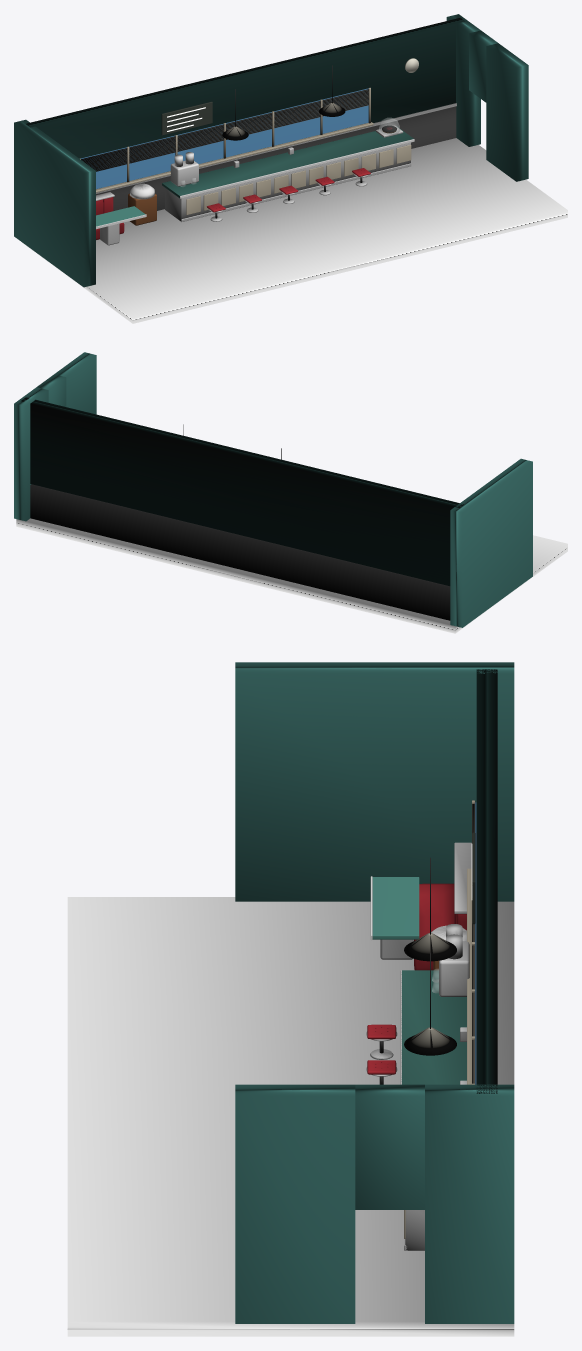
Rendered from diner.glb.
3 views of the same model, one above another, from view 1: azimuth 30°, elevation 25°; view 2: azimuth 150°, elevation 25°; view 3: azimuth 270°, elevation 25° (orthographic). The views are drawn at different scales.
Visible parts, largest first — view 1: Floor, Wall • back upper, Wall • left, Wall • right c, Window • night, Counter • top, Wall • back lower, Wall • right a, Counter • body, Wall • right b, Menu board, Window • sill (+19 smaller); view 2: Wall • back upper, Wall • back lower, Wall • left, Floor, Wall • right a, Wall • right c, Wall • right b; view 3: Floor, Wall • left, Wall • right c, Wall • right a, Wall • back upper, Wall • right b, Counter • top, Booth table • top, Booth • seat, Coffee machine, Booth • chrome trim, Pendant shade.001 (+2 smaller).
Boxes of the visible parts, x1,y1,x2,y2 form: Floor: [21, 138, 567, 323]; Wall • back upper: [26, 17, 465, 158]; Wall • left: [14, 119, 95, 287]; Wall • right c: [486, 43, 528, 181]; Window • night: [81, 88, 368, 188]; Counter • top: [162, 126, 413, 198]; Wall • back lower: [96, 106, 456, 210]; Wall • right a: [446, 14, 480, 146]; Counter • body: [165, 142, 410, 221]; Wall • right b: [469, 30, 498, 102]; Menu board: [161, 101, 212, 135]; Window • sill: [96, 122, 373, 192]; Wall • back upper: [21, 397, 463, 586]; Wall • back lower: [30, 484, 450, 620]; Wall • left: [450, 458, 532, 627]; Floor: [16, 518, 567, 633]; Wall • right a: [14, 387, 48, 521]; Wall • right c: [54, 352, 96, 414]; Wall • right b: [37, 374, 66, 406]; Floor: [67, 897, 514, 1336]; Wall • left: [235, 662, 514, 901]; Wall • right c: [235, 1084, 355, 1323]; Wall • right a: [425, 1084, 514, 1323]; Wall • back upper: [476, 669, 497, 1093]; Wall • right b: [355, 1084, 424, 1209]; Counter • top: [401, 970, 466, 1084]; Booth table • top: [372, 877, 419, 939]; Booth • seat: [414, 883, 454, 970]; Coffee machine: [439, 941, 469, 996]; Booth • chrome trim: [454, 842, 471, 913]; Pendant shade.001: [404, 1027, 456, 1055].
Bounding box in the file's own units: 36.8 × 9.6 × 16.
